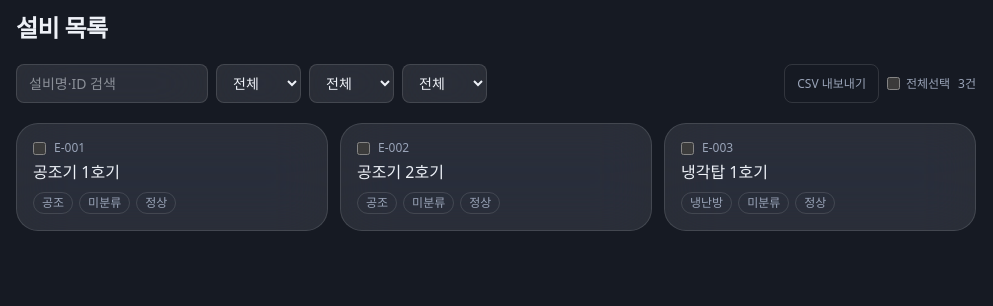
Test case: EquipmentList 다중선택/일괄삭제 › 선택 해제를 누르면 선택이 전부 풀린다
What coordinates should you click on to do the following:
click the checkbox labelled "전체선택"
I would click on:
 (893, 84)
Its box is [887, 77, 900, 90].
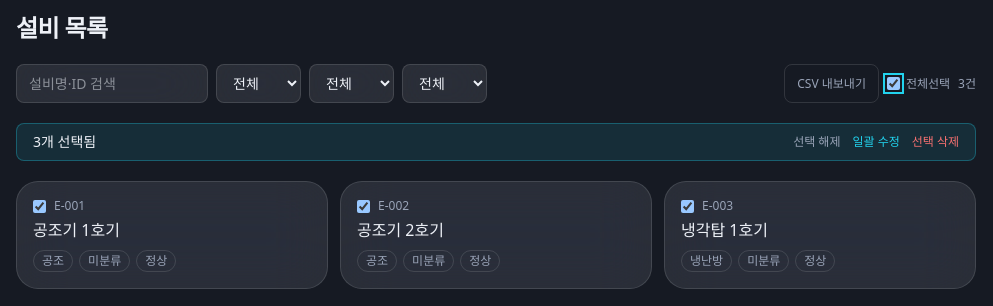
What coordinates should you click on to do the following:
click the button "선택 해제"
I would click on:
 (817, 142)
Its box is [793, 134, 840, 150].
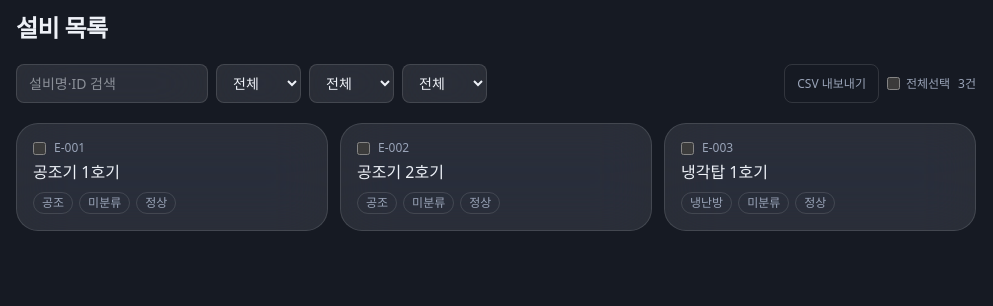
Now the text "개 선택됨" is gone
